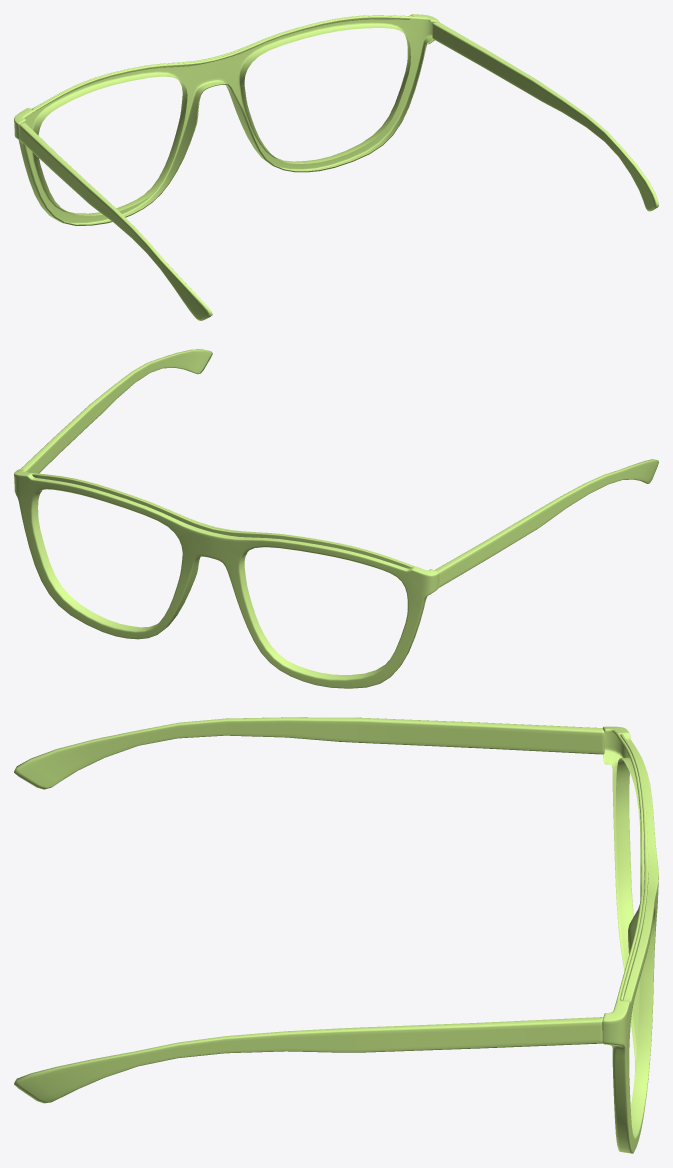
The model's file is sunglass_french_lime.fbx.
The picture shows the model from 3 angles, top to bottom: view 1: azimuth 30°, elevation 25°; view 2: azimuth 150°, elevation 25°; view 3: azimuth 270°, elevation 25°; orthographic projection. The views are drawn at different scales.
Parts seen in each view (by area): view 1: am_body.001; view 2: am_body.001; view 3: am_body.001.
Boxes of the visible parts, box(x1,y1,x2,y2) form: am_body.001: box(14, 14, 658, 320); am_body.001: box(14, 349, 658, 688); am_body.001: box(14, 717, 658, 1153).
Size of the model in its own units: 16.26 by 4.9 by 13.72.
